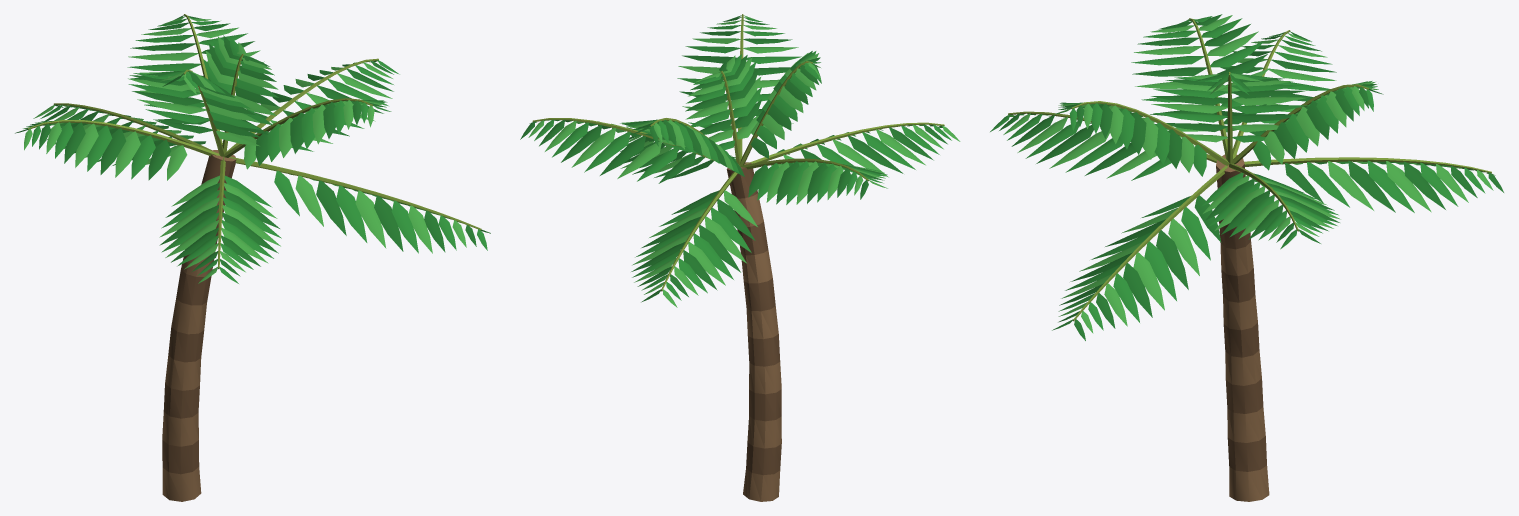
The picture shows the model from 3 angles, left to right: view 1: azimuth 30°, elevation 25°; view 2: azimuth 150°, elevation 25°; view 3: azimuth 270°, elevation 25°; orthographic projection. The views are drawn at different scales.
Parts seen in each view (by area): view 1: body; view 2: body; view 3: body.
Part boxes in pixels (bbox=[...]): body: bbox=[15, 14, 490, 501]; body: bbox=[520, 14, 960, 501]; body: bbox=[990, 14, 1503, 501].
Bounding box in the file's own units: 2.32 × 2.62 × 2.62.
1 material, 1 textured.
